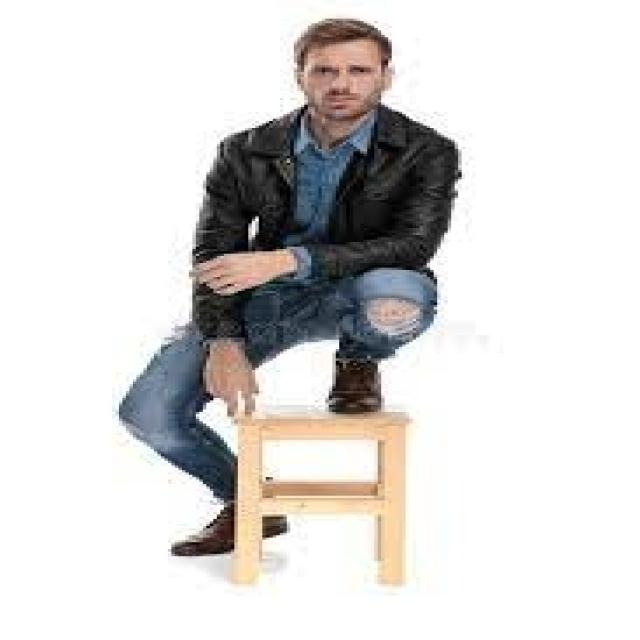sit: (125, 9, 451, 568)
